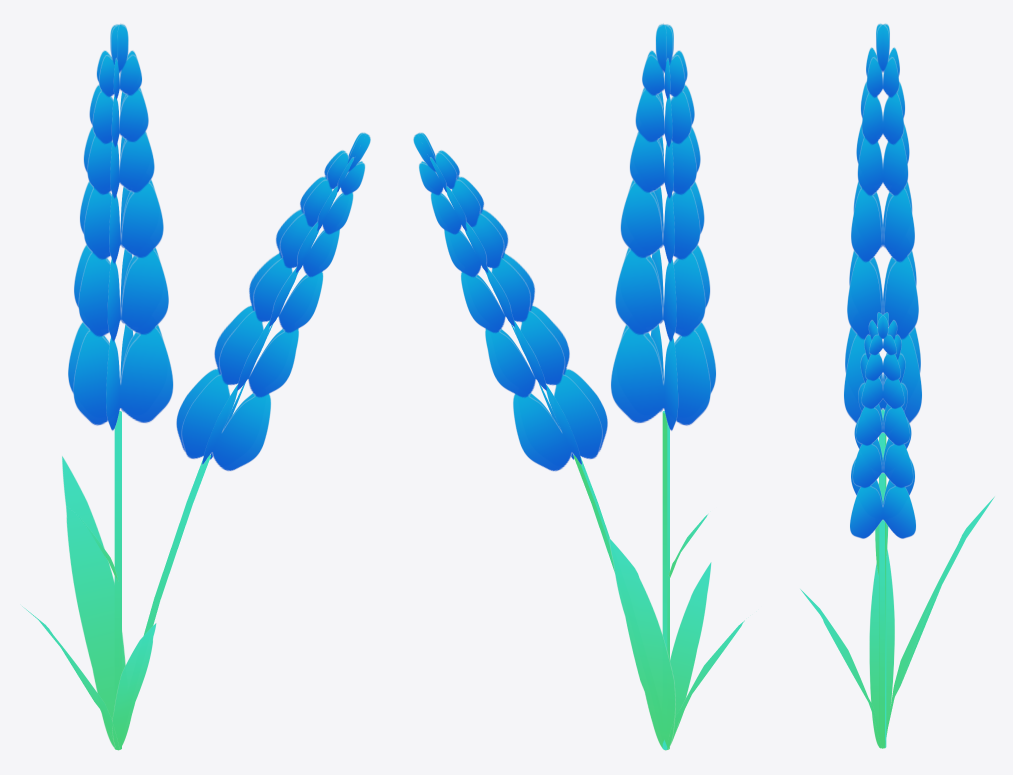
The model's file is Flowers_n03_05.glb.
3 views of the same model, side by side, from view 1: azimuth 30°, elevation 25°; view 2: azimuth 150°, elevation 25°; view 3: azimuth 270°, elevation 25° (orthographic).
Parts seen in each view (by area): view 1: polySurface466; view 2: polySurface466; view 3: polySurface466.
Boxes of the visible parts, x1=… form: polySurface466: x1=22, y1=23, x2=370, y2=750; polySurface466: x1=413, y1=23, x2=744, y2=750; polySurface466: x1=800, y1=23, x2=994, y2=748.
Size of the model in its own units: 0.4519 by 0.8923 by 0.2191.
Materials: 1 (1 with a texture image).
